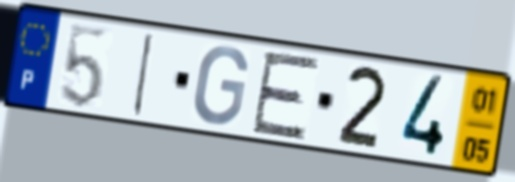2: (336, 65, 388, 152)
4: (397, 72, 449, 162)
5: (58, 21, 110, 110)
E: (248, 49, 323, 142)
G: (190, 44, 252, 128)
I: (129, 30, 158, 119)
